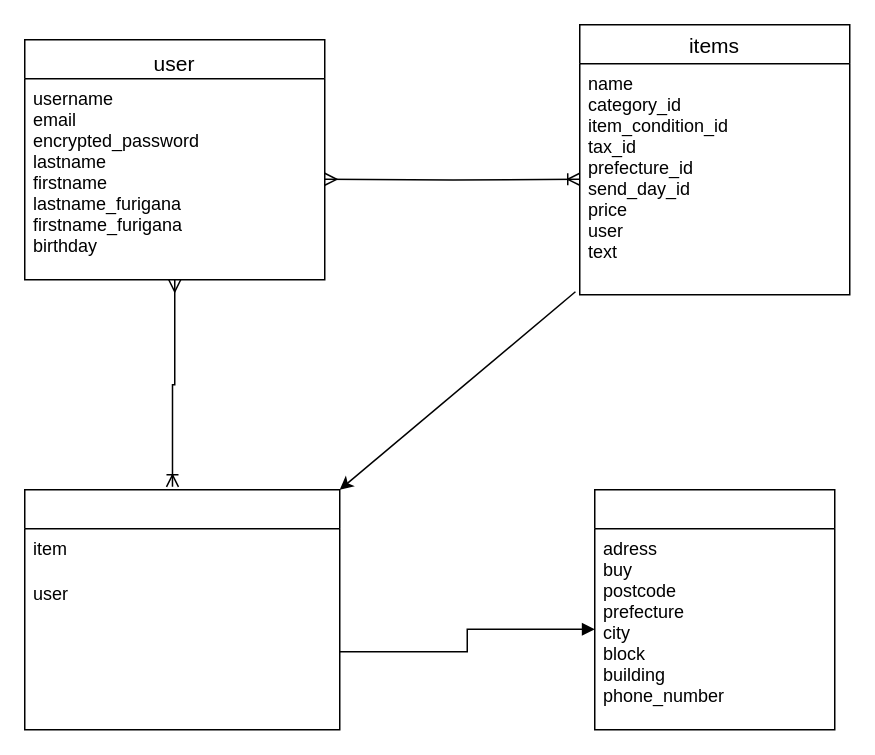
Image size: 875x755. Some labels were removed from this diagram. Here are the shapes that lost their labels. From the top down, the box of each, then its label:
(23, 488, 340, 730): buys
(593, 488, 835, 730): adresses
